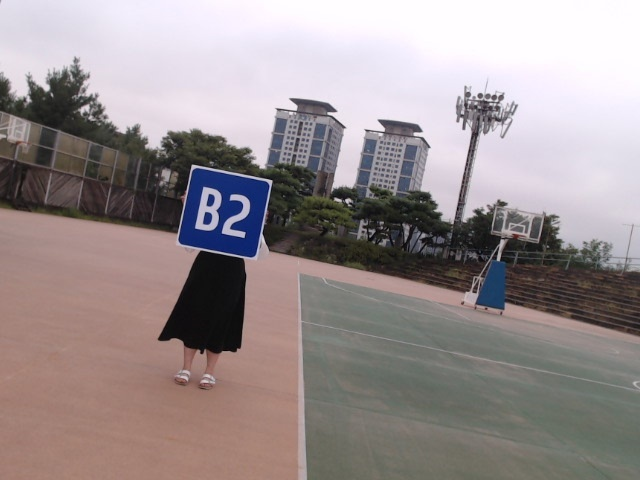delivery_b2: (176, 166, 271, 259)
